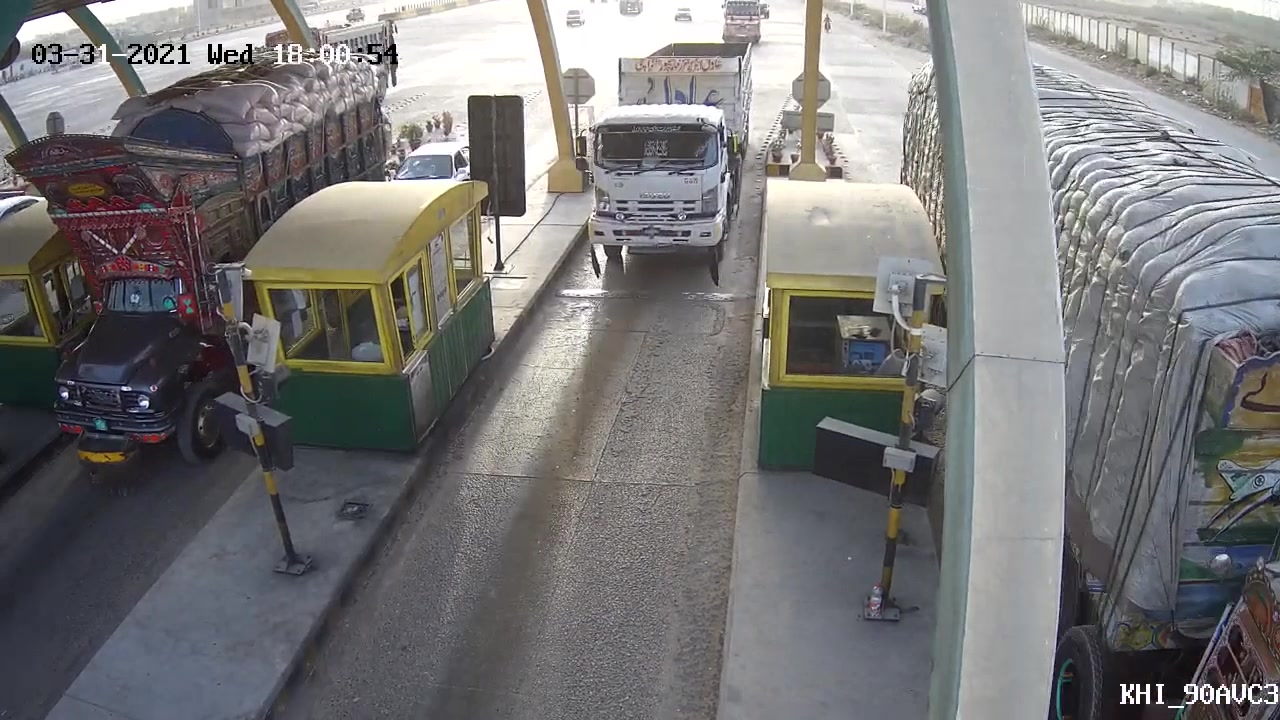F5: (569, 51, 754, 286)
